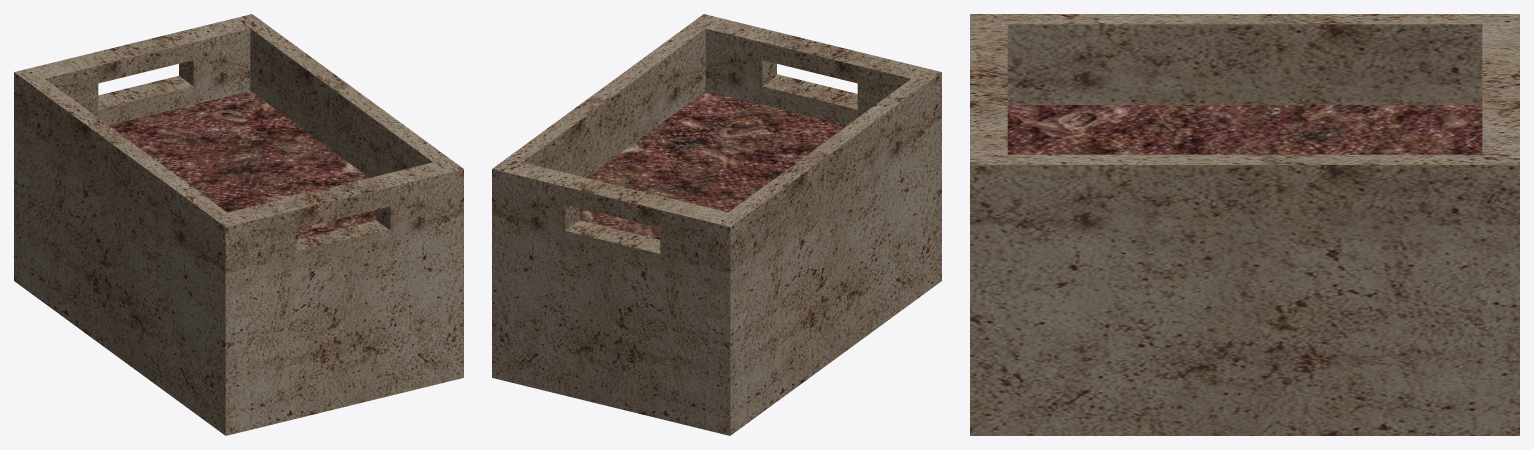
The model's file is Container.fbx.
3 views of the same model, side by side, from view 1: azimuth 30°, elevation 25°; view 2: azimuth 150°, elevation 25°; view 3: azimuth 270°, elevation 25° (orthographic). The views are drawn at different scales.
Visible parts, largest first — view 1: PlasticBox.001, Meat; view 2: PlasticBox.001, Meat; view 3: PlasticBox.001, Meat.
Part boxes in pixels (x1,y1,x2,y2): PlasticBox.001: (14,14,463,435); Meat: (109,91,376,239); PlasticBox.001: (492,14,941,435); Meat: (579,91,846,239); PlasticBox.001: (970,14,1519,435); Meat: (1007,105,1482,154).
Size of the model in its own units: 1.27 by 1.06 by 1.95.
